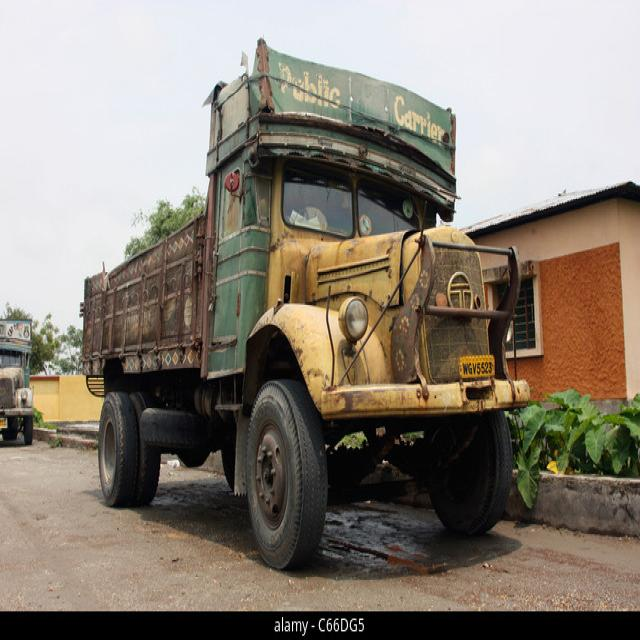truck: (82, 39, 532, 574)
